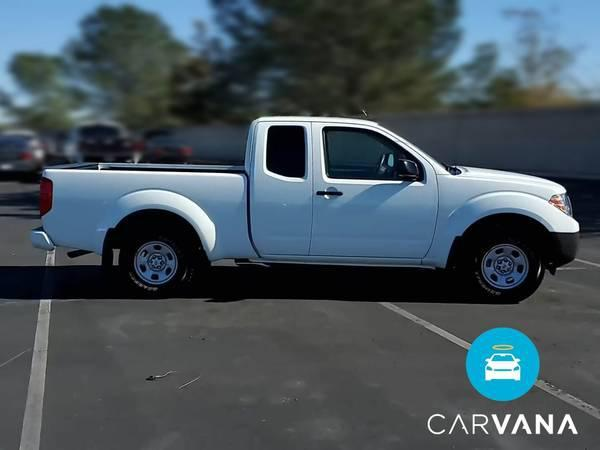Front_Bumper: (547, 231, 583, 275)
Front_Fender: (425, 175, 577, 270)
Front_Right_Door: (310, 182, 437, 266)
Front_Right_Window: (312, 126, 435, 186)
Hood: (441, 165, 565, 189)
Rear_Bumper: (32, 228, 57, 252)
Rear_Fender: (42, 169, 259, 260)
Rear_Right_Door: (250, 172, 314, 267)
Rear_Right_Window: (264, 123, 312, 182)
Right_Headlight: (549, 193, 576, 217)
Right_Taillight: (39, 177, 53, 216)
Roof: (244, 115, 442, 174)
Wheel: (468, 231, 544, 302), (120, 228, 192, 293)
